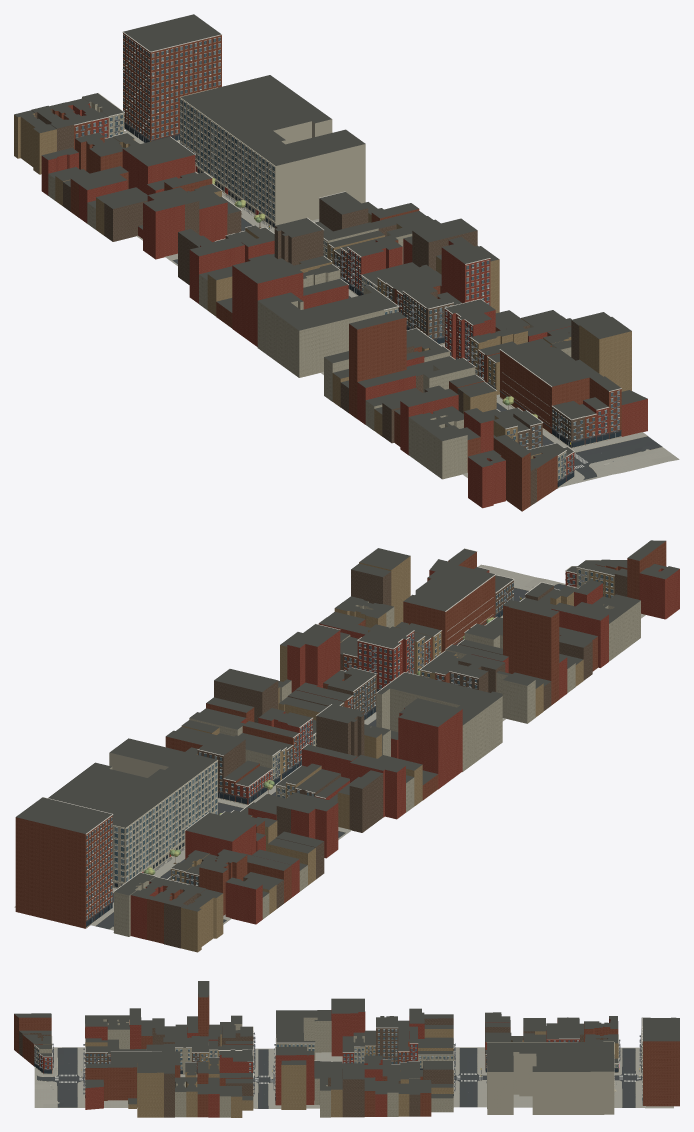
The model's file is room.glb.
3 renders of one model, top to bottom at view 1: azimuth 30°, elevation 25°; view 2: azimuth 150°, elevation 25°; view 3: azimuth 270°, elevation 25°, orthographic. The views are drawn at different scales.
Parts seen in each view (by area): view 1: STATIC_ludlow-skate_E_-3, STATIC_ludlow-skate_E_-14, STATIC_ludlow-skate_E_0, STATIC_ludlow-skate_W_-9, STATIC_ludlow-skate_W_-12, STATIC_ludlow-skate_W_-15, STATIC_ludlow-skate_W_-17, STATIC_ludlow-skate_W_-8, STATIC_ludlow-skate_E_-10, STATIC_ludlow-skate_W_-4, STATIC_ludlow-skate_W_0, STATIC_ludlow-skate_W_-2 (+17 smaller); view 2: STATIC_ludlow-skate_E_-3, STATIC_ludlow-skate_E_0, STATIC_ludlow-skate_E_-14, STATIC_ludlow-skate_W_-6, STATIC_ludlow-skate_W_0, STATIC_ludlow-skate_W_-12, STATIC_ludlow-skate_W_-9, STATIC_ludlow-skate_W_-8, STATIC_ludlow-skate_E_-10, STATIC_ludlow-skate_E_-6, STATIC_ludlow-skate_W_-2, STATIC_ludlow-skate_W_-1 (+18 smaller); view 3: STATIC_ludlow-skate_E_-3, SURFACE_road_000, STATIC_ludlow-skate_E_-14, STATIC_ludlow-skate_E_0, STATIC_ludlow-skate_E_-10, STATIC_ludlow-skate_W_-8, STATIC_ludlow-skate_E_-6, TERRAIN_Context, STATIC_ludlow-skate_W_-6, STATIC_ludlow-skate_W_-9, STATIC_ludlow-skate_E_-8, STATIC_ludlow-skate_W_-15 (+25 smaller).
Part boxes in pixels (box(x1,y1,x2,y2)): STATIC_ludlow-skate_E_-3: box(179, 75, 365, 228); STATIC_ludlow-skate_E_-14: box(499, 317, 631, 439); STATIC_ludlow-skate_E_0: box(122, 14, 221, 142); STATIC_ludlow-skate_W_-9: box(257, 285, 398, 377); STATIC_ludlow-skate_W_-12: box(332, 312, 455, 424); STATIC_ludlow-skate_W_-15: box(408, 406, 543, 479); STATIC_ludlow-skate_W_-17: box(468, 434, 574, 511); STATIC_ludlow-skate_W_-8: box(232, 255, 348, 346); STATIC_ludlow-skate_E_-10: box(402, 237, 499, 344); STATIC_ludlow-skate_W_-4: box(138, 183, 241, 259); STATIC_ludlow-skate_W_0: box(14, 93, 124, 174); STATIC_ludlow-skate_W_-2: box(63, 136, 195, 223); STATIC_ludlow-skate_E_-3: box(48, 738, 218, 888); STATIC_ludlow-skate_E_0: box(15, 797, 113, 928); STATIC_ludlow-skate_E_-14: box(359, 548, 495, 652); STATIC_ludlow-skate_W_-6: box(275, 744, 405, 832); STATIC_ludlow-skate_W_0: box(113, 872, 223, 952); STATIC_ludlow-skate_W_-12: box(445, 600, 567, 717); STATIC_ludlow-skate_W_-9: box(376, 672, 502, 771); STATIC_ludlow-skate_W_-8: box(364, 698, 462, 789); STATIC_ludlow-skate_E_-10: box(280, 623, 377, 720); STATIC_ludlow-skate_E_-6: box(165, 726, 280, 804); STATIC_ludlow-skate_W_-2: box(184, 812, 299, 908); STATIC_ludlow-skate_W_-1: box(167, 849, 276, 924); STATIC_ludlow-skate_E_-3: box(486, 1041, 616, 1114); SURFACE_road_000: box(37, 1047, 642, 1108); STATIC_ludlow-skate_E_-14: box(83, 1051, 180, 1117); STATIC_ludlow-skate_E_0: box(642, 1018, 679, 1106); STATIC_ludlow-skate_E_-10: box(273, 1046, 314, 1109); STATIC_ludlow-skate_W_-8: box(331, 998, 375, 1063); STATIC_ludlow-skate_E_-6: box(408, 1061, 453, 1116); TERRAIN_Context: box(34, 1047, 673, 1108); STATIC_ludlow-skate_W_-6: box(409, 1008, 455, 1072); STATIC_ludlow-skate_W_-9: box(276, 1010, 331, 1060); STATIC_ludlow-skate_E_-8: box(342, 1055, 382, 1117); STATIC_ludlow-skate_W_-15: box(83, 1015, 129, 1067).
Size of the model in its own units: 124 by 49.59 by 456.
27 materials, 10 textured.
